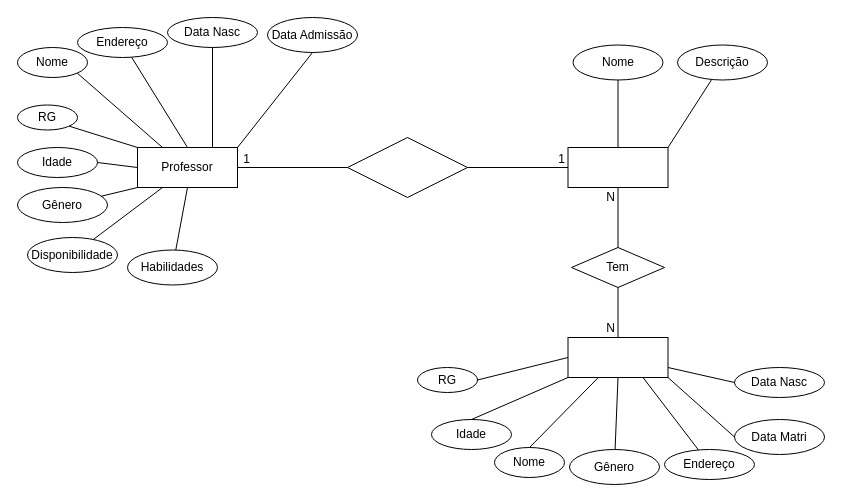
The diagram is 842 pixels wide and 502 high, and some of its shapes have lost their labels. Each missing label, with the centre of its shape:
Alunos: pixel 617 357
Curso: pixel 617 167
Ministra: pixel 407 167
